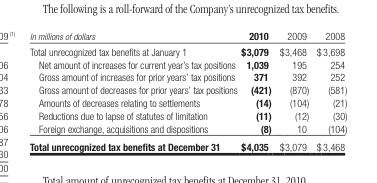table: (28, 28, 346, 151)
table column: (28, 28, 238, 151), (274, 28, 311, 151), (238, 28, 274, 151), (311, 28, 346, 151)
table column header: (28, 28, 346, 42)
table row: (28, 42, 346, 57), (28, 121, 346, 136), (28, 136, 346, 151), (28, 28, 346, 42), (28, 57, 346, 70), (28, 70, 346, 83), (28, 95, 346, 108), (28, 108, 346, 121), (28, 83, 346, 95)
